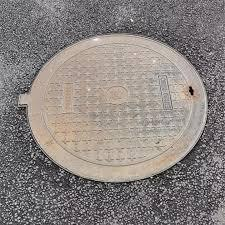wellcover: (7, 34, 224, 186)
